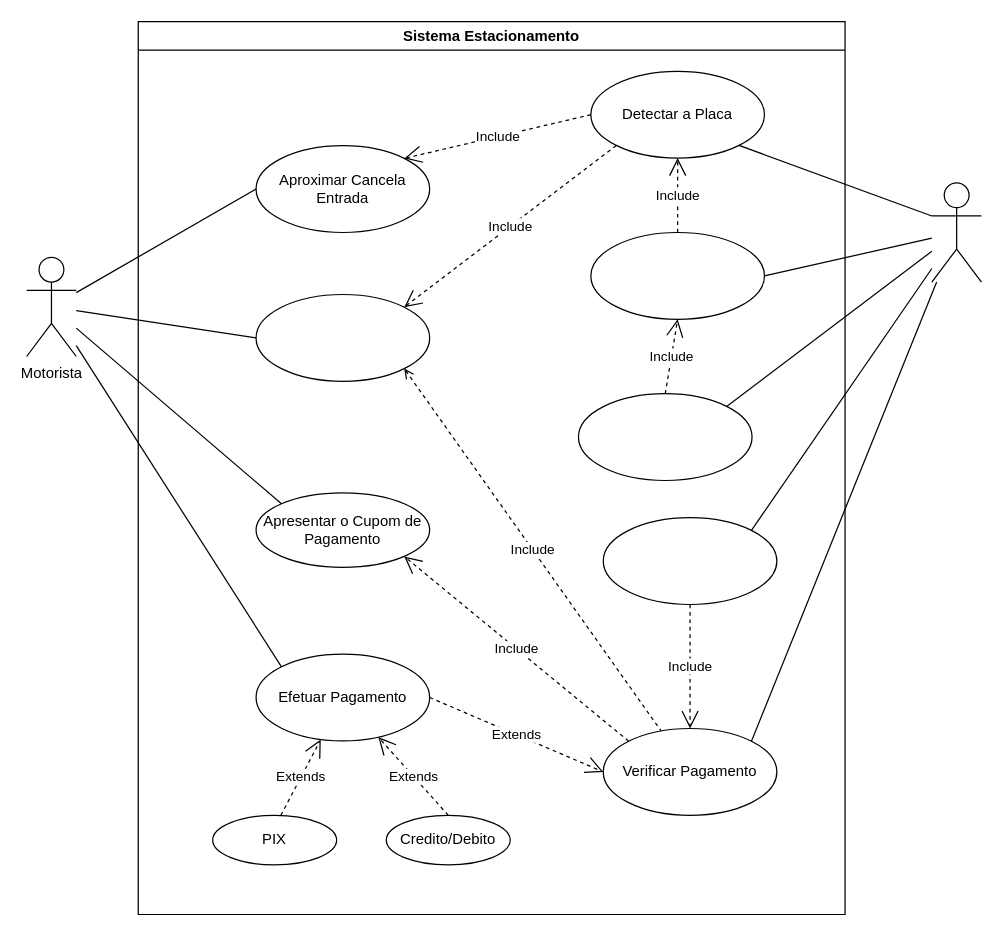
Some shapes in this 1003 by 936 pixel diagram are drawn without their labels. The shapes that lost their labels are listed below. From the top down, each one's centre as x and y in pixels, then its label:
(956,232): Sensor
(677,275): Gerar QR Code
(342,337): Aproximar Cancela Saida
(664,436): Abrir Cancela Entrada
(689,560): Abrir Cancela Saida
